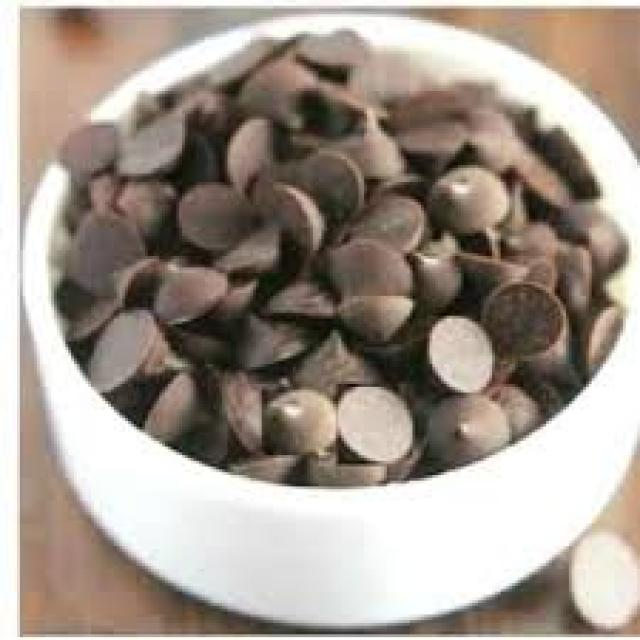Chocolate: (63, 29, 628, 484)
